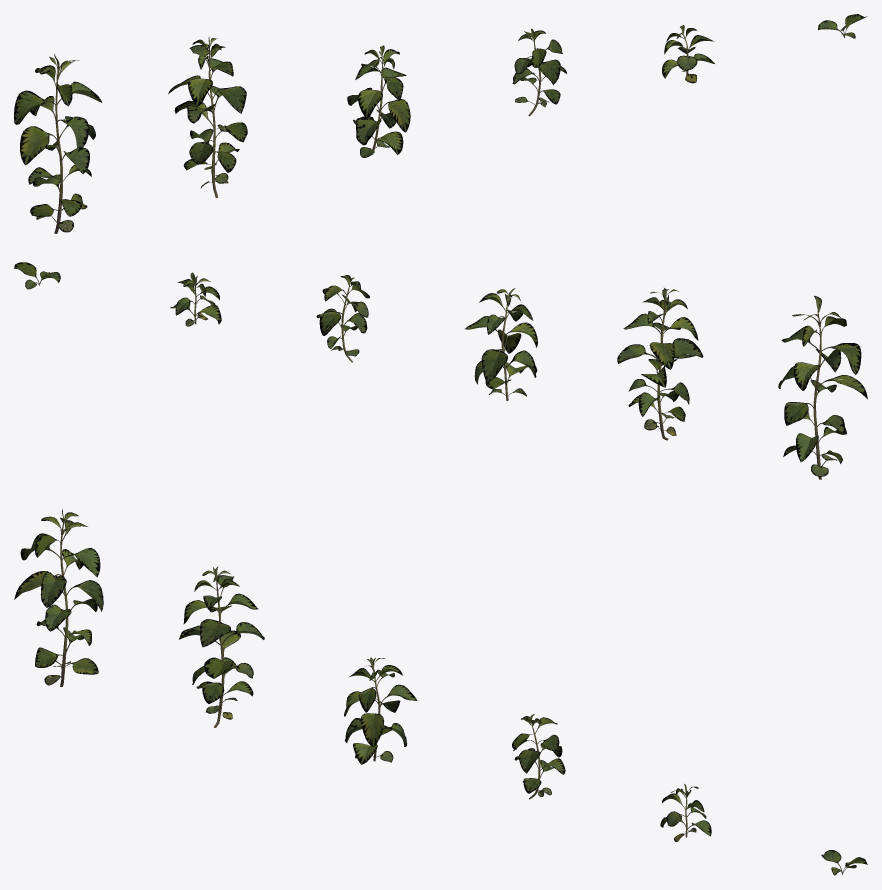
The model's file is nettle_plant.glb.
3 renders of one model, top to bottom at view 1: azimuth 30°, elevation 25°; view 2: azimuth 150°, elevation 25°; view 3: azimuth 330°, elevation 25°, orthographic.
Parts seen in each view (by area): view 1: nettle_plant_tall_a_LOD0, nettle_plant_tall_b_LOD0, nettle_plant_medium_a_LOD0, nettle_plant_medium_b_LOD0, nettle_plant_small_a_LOD0; view 2: nettle_plant_tall_a_LOD0, nettle_plant_tall_b_LOD0, nettle_plant_medium_a_LOD0, nettle_plant_medium_b_LOD0, nettle_plant_small_a_LOD0, nettle_plant_small_b_LOD0; view 3: nettle_plant_tall_a_LOD0, nettle_plant_tall_b_LOD0, nettle_plant_medium_a_LOD0, nettle_plant_medium_b_LOD0, nettle_plant_small_a_LOD0.
Part boxes in pixels (<box>): nettle_plant_tall_a_LOD0: <box>14,54,102,233</box>; nettle_plant_tall_b_LOD0: <box>168,36,247,197</box>; nettle_plant_medium_a_LOD0: <box>347,45,410,157</box>; nettle_plant_medium_b_LOD0: <box>512,28,566,116</box>; nettle_plant_small_a_LOD0: <box>662,25,714,83</box>; nettle_plant_tall_a_LOD0: <box>778,295,867,479</box>; nettle_plant_tall_b_LOD0: <box>617,288,703,440</box>; nettle_plant_medium_a_LOD0: <box>465,288,537,400</box>; nettle_plant_medium_b_LOD0: <box>316,275,369,362</box>; nettle_plant_small_a_LOD0: <box>170,272,221,326</box>; nettle_plant_small_b_LOD0: <box>14,262,60,289</box>; nettle_plant_tall_a_LOD0: <box>14,509,103,686</box>; nettle_plant_tall_b_LOD0: <box>179,566,264,727</box>; nettle_plant_medium_a_LOD0: <box>344,657,417,764</box>; nettle_plant_medium_b_LOD0: <box>512,714,565,799</box>; nettle_plant_small_a_LOD0: <box>660,784,711,841</box>.
Bounding box in the file's own units: 1.08 × 0.2184 × 0.0947.
Materials: 1 (1 with a texture image).
